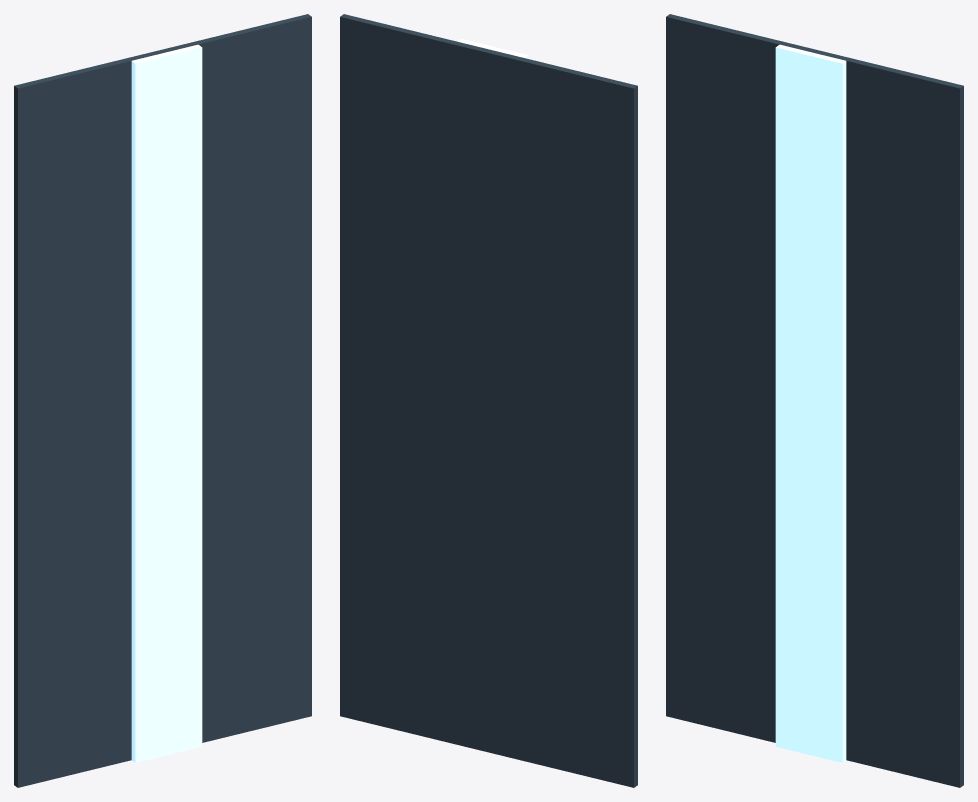
Rendered from Hall_Slit.gltf.
3 renders of one model, left to right at view 1: azimuth 30°, elevation 25°; view 2: azimuth 150°, elevation 25°; view 3: azimuth 330°, elevation 25°, orthographic.
Parts seen in each view (by area): view 1: Hall_Slit_baked; view 2: Hall_Slit_baked; view 3: Hall_Slit_baked.
Boxes of the visible parts, left/top/right/bottom form: Hall_Slit_baked: left=14, top=14, right=311, bottom=787; Hall_Slit_baked: left=340, top=14, right=637, bottom=787; Hall_Slit_baked: left=666, top=14, right=963, bottom=787.
Size of the model in its own units: 0.44 by 1 by 0.02.
